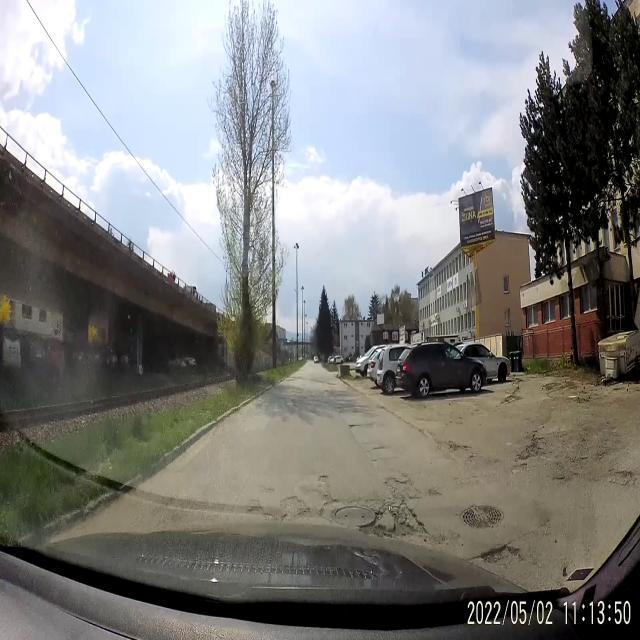Manhole: (459, 501, 506, 534), (332, 498, 375, 532)
Pothole: (367, 502, 428, 540), (477, 535, 525, 571), (276, 490, 310, 522), (246, 496, 268, 522), (387, 473, 416, 492), (346, 418, 374, 436), (316, 472, 332, 486), (372, 440, 389, 452)
